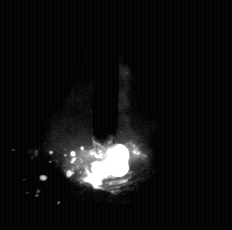arame: (92, 0, 118, 144)
poca: (45, 0, 153, 230)
